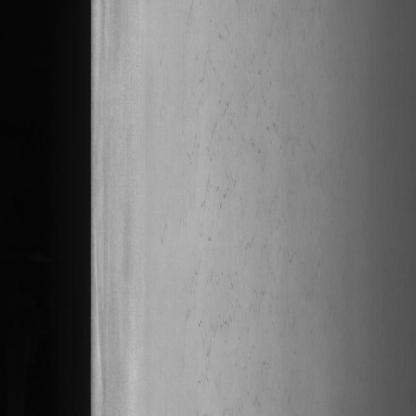silk_spot: (181, 36, 289, 356)
